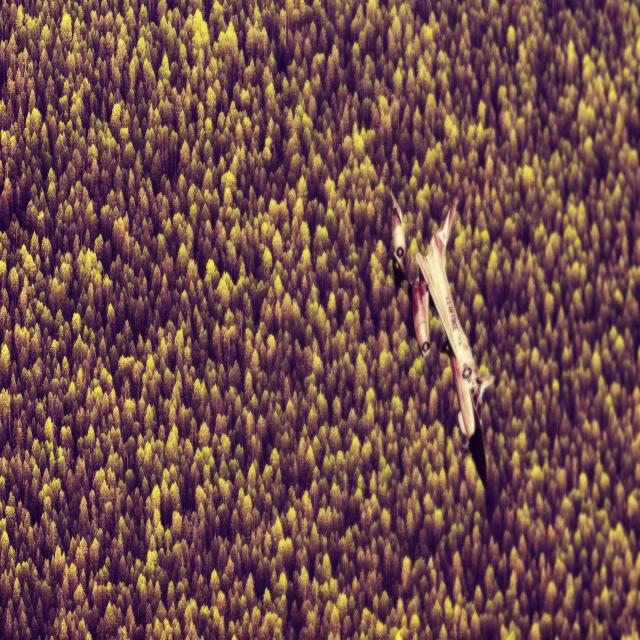airplane: (389, 190, 495, 490)
